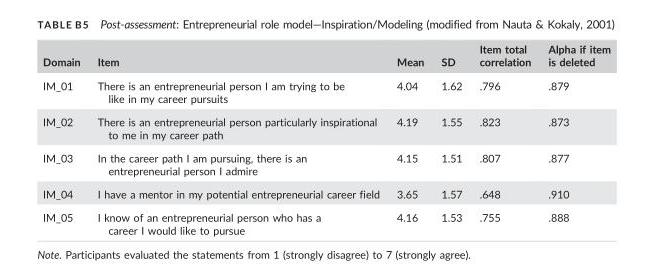table: (42, 42, 609, 235)
table column: (88, 42, 387, 235), (538, 42, 609, 235), (470, 42, 538, 235), (42, 42, 88, 235), (387, 42, 431, 235), (431, 42, 470, 235)
table column header: (42, 42, 609, 73)
table row: (42, 73, 609, 109), (42, 109, 609, 145), (42, 145, 609, 181), (42, 42, 609, 73), (42, 205, 609, 235), (42, 181, 609, 205)
